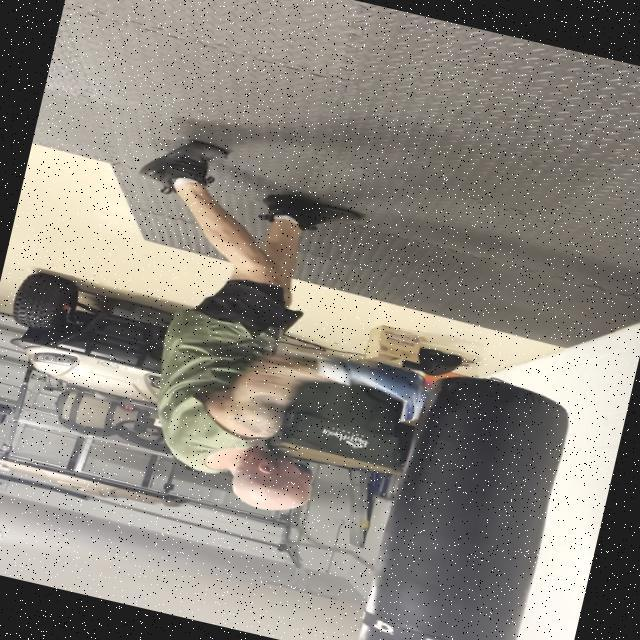bag: (349, 358, 599, 640)
uppercut: (144, 302, 459, 551)
